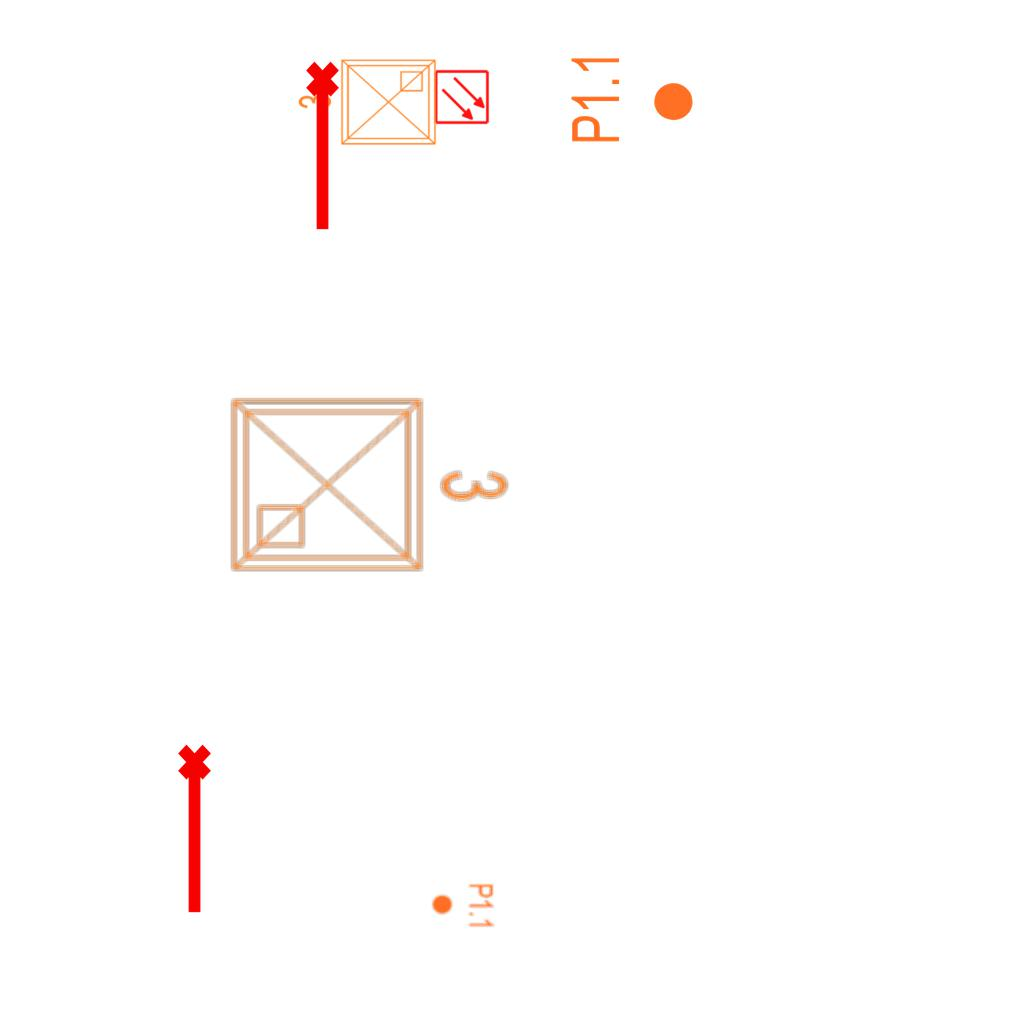ASR_Ansaugoeffnung: (174, 742, 220, 918), (302, 59, 348, 235)
Downlight_LED_Einbauleuchten_Flur: (568, 52, 696, 145), (431, 883, 495, 929)
Einbaudownlights_LED_Konferenzraeume: (218, 377, 518, 585), (293, 52, 443, 156)
RMO_Rauchmelder_optischer: (434, 69, 490, 125)
